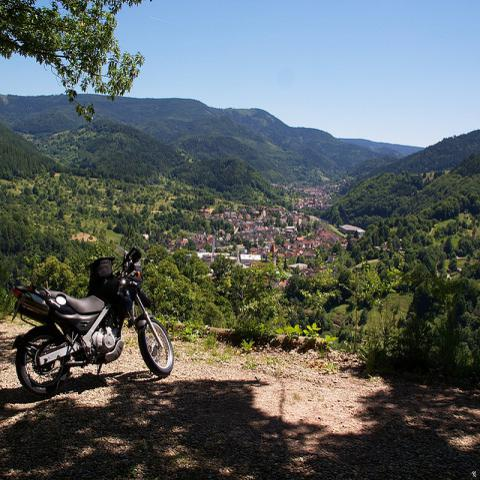motorcycle: (11, 228, 176, 399)
